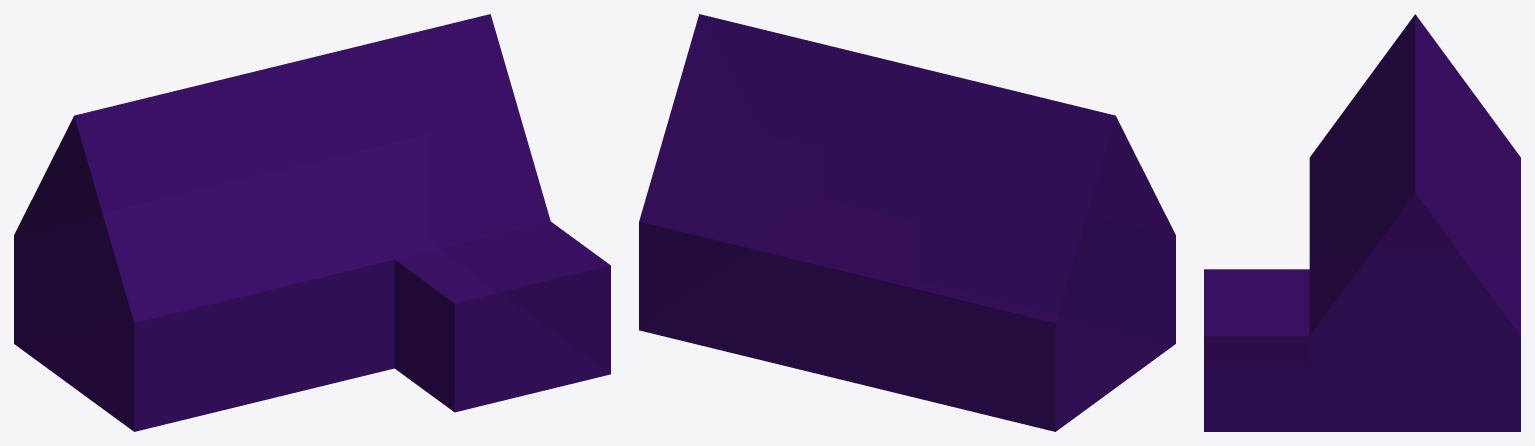
3 renders of one model, left to right at view 1: azimuth 30°, elevation 25°; view 2: azimuth 150°, elevation 25°; view 3: azimuth 270°, elevation 25°, orthographic. The views are drawn at different scales.
Parts seen in each view (by area): view 1: SketchUp; view 2: SketchUp; view 3: SketchUp.
Boxes of the visible parts, x1,y1,x2,y2 form: SketchUp: (14, 14, 610, 431); SketchUp: (639, 14, 1175, 431); SketchUp: (1204, 14, 1520, 431).
Bounding box in the file's own units: 315 × 236 × 197.
